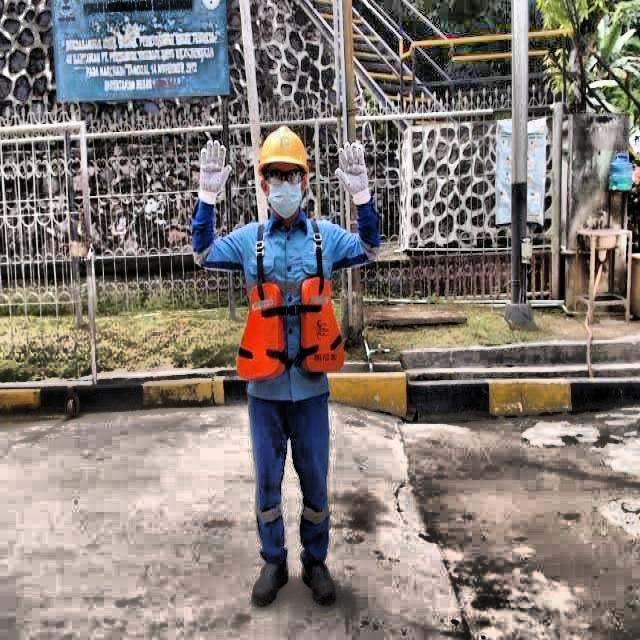safety_helmet: (254, 123, 309, 169)
safety_jacket: (239, 278, 346, 379)
